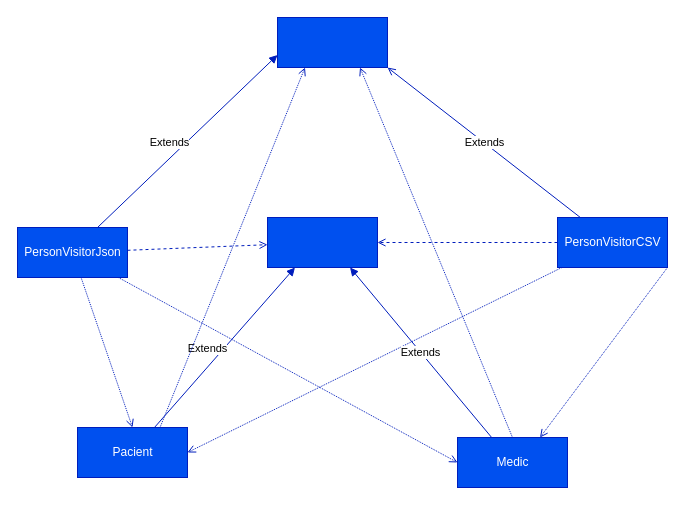
Some shapes in this 693 by 505 pixel diagram are drawn without their labels. Each missing label, with the centre of its shape:
"«interface» Person" belongs at (x=322, y=242).
"«interface» Visitor" belongs at (x=332, y=42).
